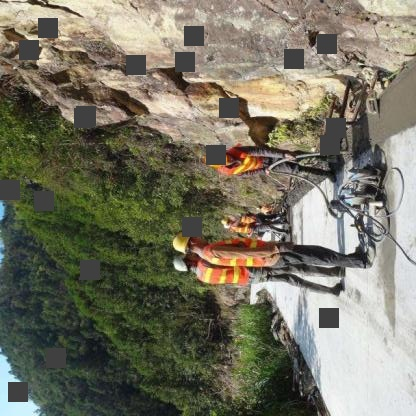vest: (199, 230, 271, 269), (194, 255, 253, 289), (221, 142, 262, 178), (229, 217, 257, 235), (239, 213, 258, 224), (260, 202, 272, 212)
white: (173, 250, 188, 274)
yellow: (170, 227, 201, 253), (201, 148, 229, 169), (220, 215, 230, 226)
